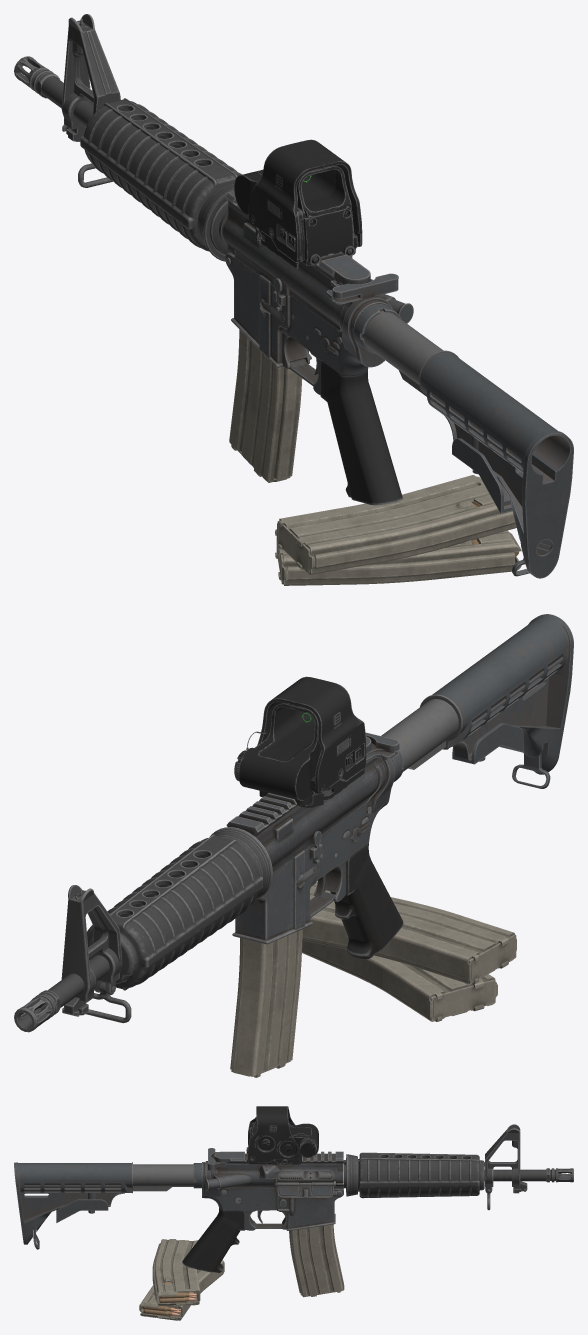
Rendered from M4-Commando.glb.
The picture shows the model from 3 angles, top to bottom: view 1: azimuth 30°, elevation 25°; view 2: azimuth 150°, elevation 25°; view 3: azimuth 270°, elevation 25°; orthographic projection. The views are drawn at different scales.
Parts seen in each view (by area): view 1: m4_re, m4_stock, M4_handguard, mag4, polySurface509, mag1, mag; view 2: M4_handguard, m4_re, m4_stock, polySurface509, mag4, mag1, mag; view 3: m4_re, M4_handguard, m4_stock, polySurface509, mag1, mag4, mag.
Boxes of the visible parts, box(x1,y1,x2,y2) form: m4_re: box(222, 191, 413, 505); m4_stock: box(354, 304, 573, 578); M4_handguard: box(14, 14, 241, 261); mag4: box(277, 475, 516, 574); polySurface509: box(234, 139, 362, 268); mag1: box(229, 329, 302, 482); mag: box(275, 529, 521, 585); M4_handguard: box(14, 827, 272, 1032); m4_re: box(226, 732, 403, 959); m4_stock: box(381, 614, 573, 788); polySurface509: box(234, 676, 366, 807); mag4: box(302, 881, 516, 984); mag1: box(230, 929, 302, 1077); mag: box(302, 940, 497, 1021); m4_re: box(182, 1148, 343, 1272); M4_handguard: box(343, 1124, 573, 1210); m4_stock: box(14, 1162, 201, 1249); polySurface509: box(246, 1106, 318, 1164); mag1: box(289, 1224, 344, 1297); mag4: box(152, 1239, 200, 1305); mag: box(139, 1260, 224, 1320).
Size of the model in its own units: 0.1815 by 0.2835 by 0.7804.
Materials: 5 (5 with a texture image).
